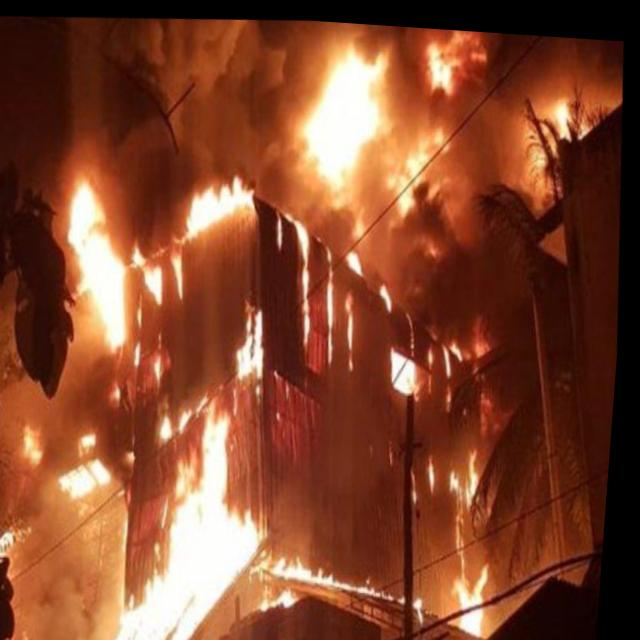fire: (101, 384, 290, 640), (285, 21, 413, 209), (50, 152, 150, 364), (253, 536, 442, 627), (183, 154, 267, 244), (414, 22, 492, 104), (400, 117, 456, 211), (452, 548, 505, 639), (292, 208, 322, 347), (233, 298, 277, 384), (131, 233, 173, 313), (452, 435, 494, 506), (542, 79, 592, 132), (324, 267, 345, 365), (25, 417, 55, 470), (393, 344, 426, 388), (346, 286, 363, 371), (172, 244, 195, 301), (441, 334, 463, 379), (430, 444, 449, 492), (378, 275, 402, 311), (155, 347, 174, 389), (347, 243, 369, 273), (452, 326, 471, 359)
